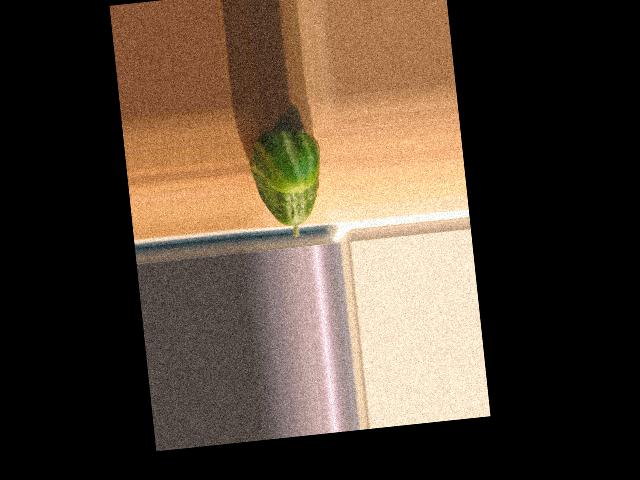cucumber: (247, 125, 329, 241)
